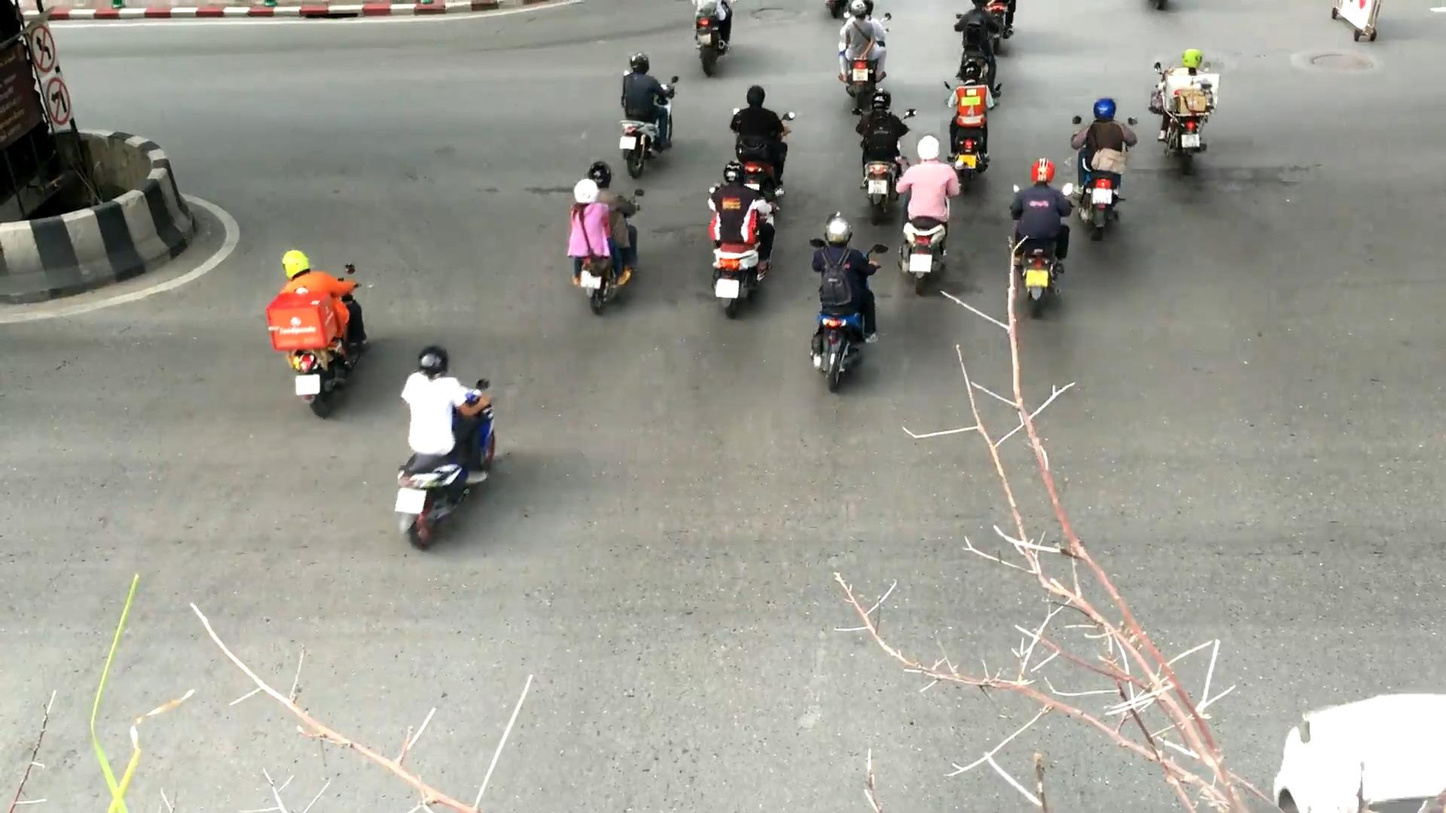driver: (394, 345, 496, 552), (265, 250, 366, 420), (809, 211, 889, 394), (567, 160, 645, 317), (708, 161, 785, 320), (895, 136, 968, 296), (1011, 158, 1076, 319), (1070, 97, 1137, 242), (1148, 48, 1221, 176), (852, 89, 917, 227), (730, 85, 796, 214), (618, 51, 678, 180), (944, 59, 1002, 191), (838, 0, 892, 109)
helmet: (824, 211, 852, 248), (419, 345, 448, 380), (281, 250, 311, 282), (588, 160, 612, 190), (1031, 158, 1055, 186), (574, 178, 598, 204), (917, 136, 941, 161), (724, 160, 747, 186), (1093, 97, 1116, 121), (960, 59, 981, 83), (630, 51, 650, 75), (1181, 48, 1203, 69), (871, 88, 891, 111), (747, 85, 765, 107), (850, 0, 867, 19)
